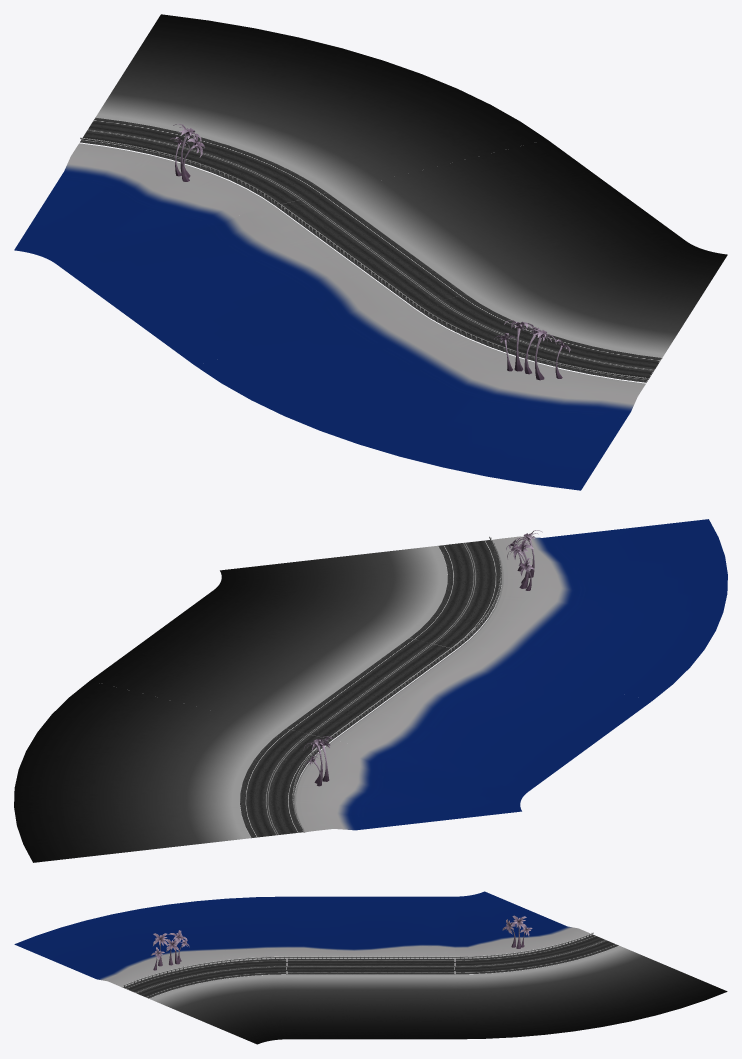
File: miami_road_007.FBX
The picture shows the model from 3 angles, top to bottom: view 1: azimuth 30°, elevation 25°; view 2: azimuth 150°, elevation 25°; view 3: azimuth 270°, elevation 25°; orthographic projection. The views are drawn at different scales.
Parts seen in each view (by area): view 1: Plane040, Plane035, Plane039, Plane038, Plane037; view 2: Plane035, Plane040, Plane039, Plane038, Plane037; view 3: Plane035, Plane040, Plane038, Plane039, Plane037, Group019.
Boxes of the visible parts, left/top/right/bottom form: Plane040: left=195, top=241, right=727, bottom=490; Plane035: left=14, top=14, right=546, bottom=263; Plane039: left=56, top=206, right=413, bottom=365; Plane038: left=328, top=139, right=685, bottom=294; Plane037: left=276, top=193, right=465, bottom=307; Plane035: left=14, top=681, right=527, bottom=862; Plane040: left=214, top=519, right=727, bottom=700; Plane039: left=333, top=650, right=651, bottom=791; Plane038: left=90, top=590, right=408, bottom=728; Plane037: left=286, top=638, right=455, bottom=739; Plane035: left=455, top=891, right=727, bottom=1039; Plane040: left=14, top=896, right=286, bottom=1044; Plane038: left=287, top=974, right=454, bottom=1039; Plane039: left=287, top=896, right=454, bottom=958; Plane037: left=287, top=959, right=454, bottom=974; Group019: left=287, top=956, right=454, bottom=959.
Size of the model in its own units: 3511 by 348 by 6797.
